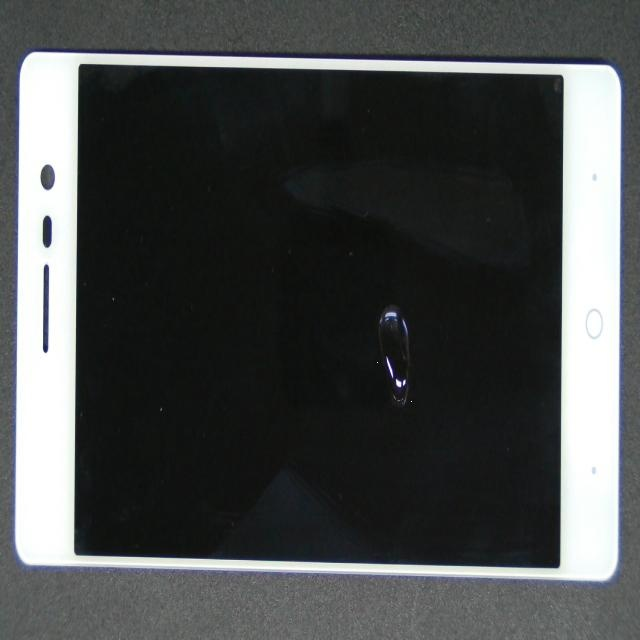oil: (197, 124, 572, 461)
